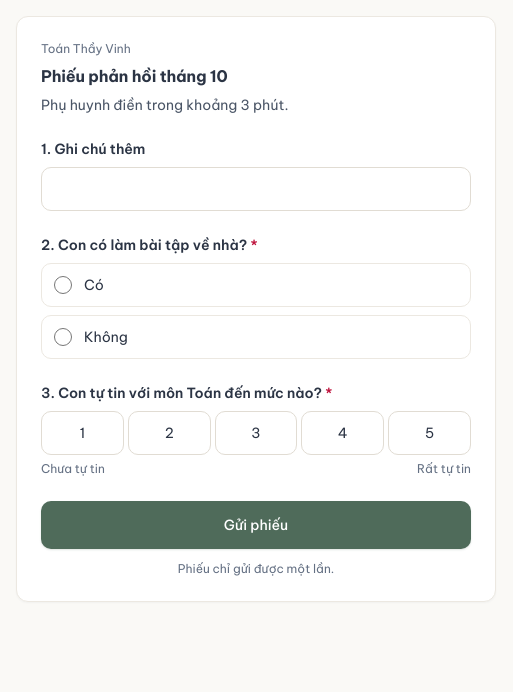
Test case: PublicCoachingForm required checks › does not send while a required answer is missing; names it, summarises and focuses the first missing control
This screenshot has width=513, height=692.
Click the button "Gửi phiếu": [256, 525] box [41,501,471,549]
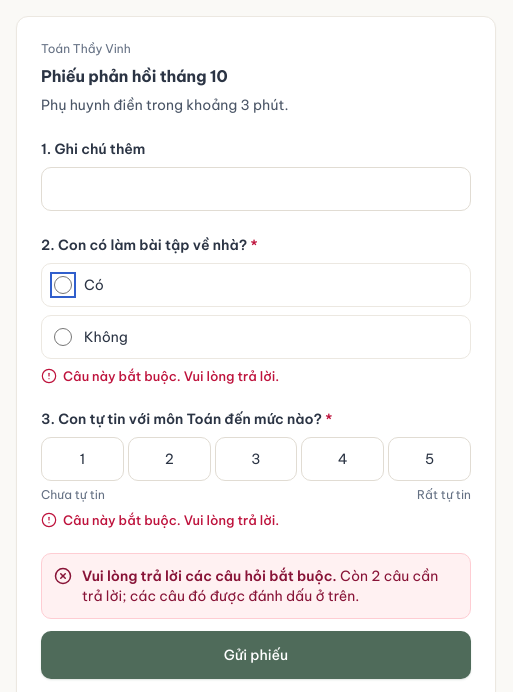
Result: the message shows "Vui lòng trả lời các câu hỏi bắt buộc." at [82,567,337,585]
Result: the message shows "Còn 2 câu cần trả lời; các câu đó được đánh dấu ở trên." at [82,567,438,605]
